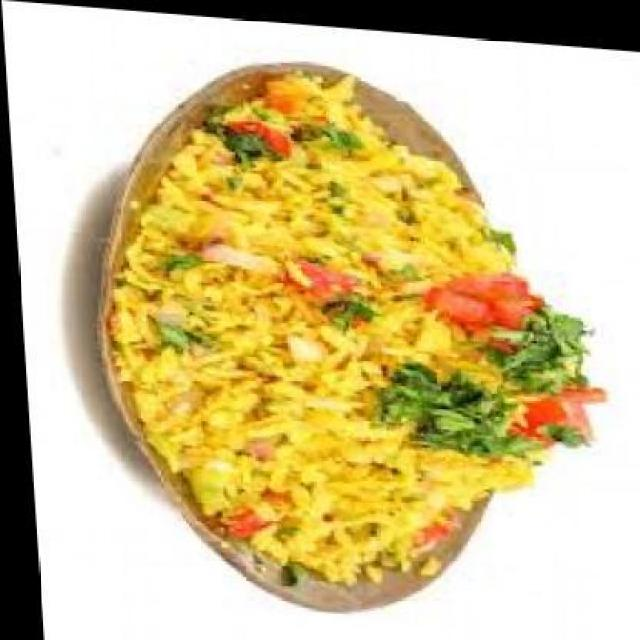poha: (88, 55, 612, 597)
